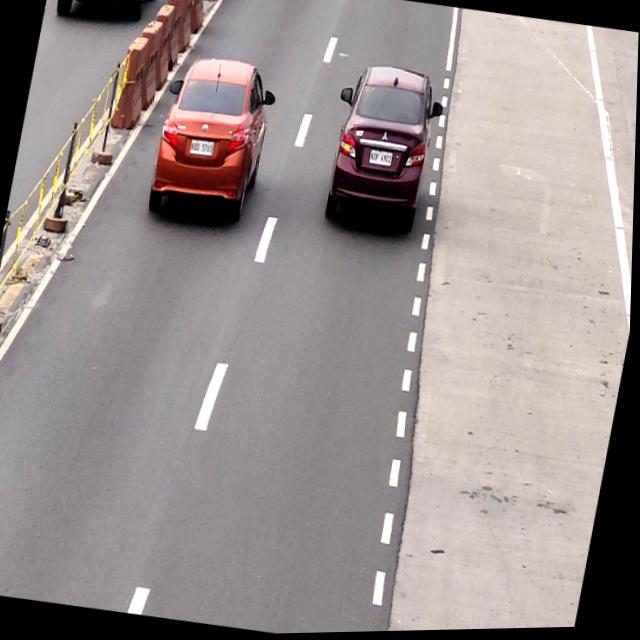Car: (143, 51, 277, 234), (323, 61, 442, 233)
License-Plate: (188, 136, 217, 160), (367, 149, 396, 172)
